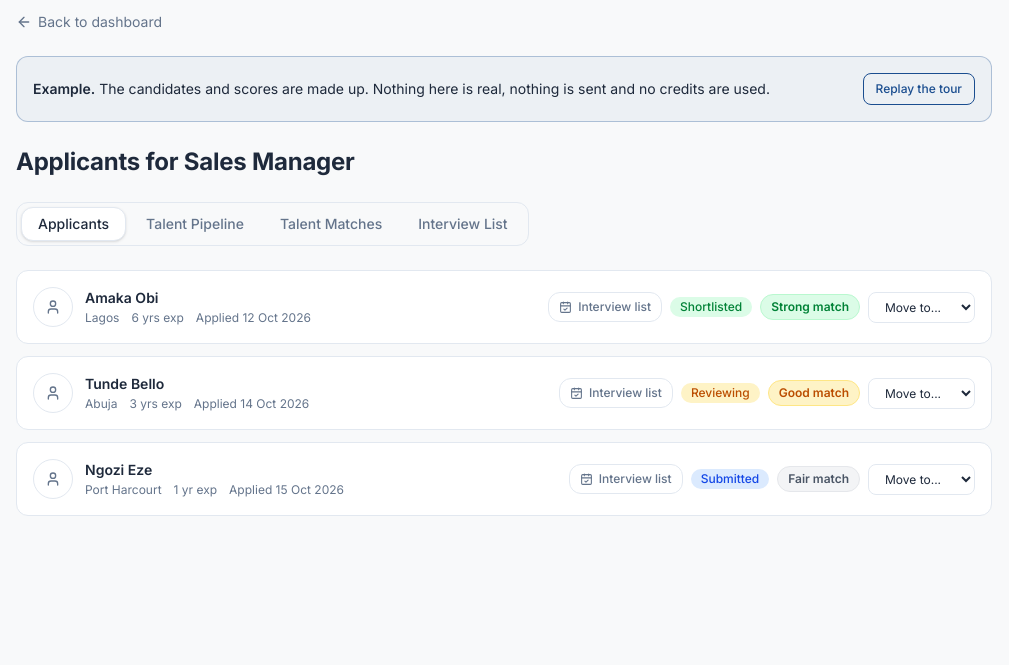
Test: ExampleJobTourPage › shows the reasons behind a score when it is pressed
Check: the text "Strengths" is not shown
Click the button with aria-label "Match score: " at (810, 307), box [760,294,860,320]
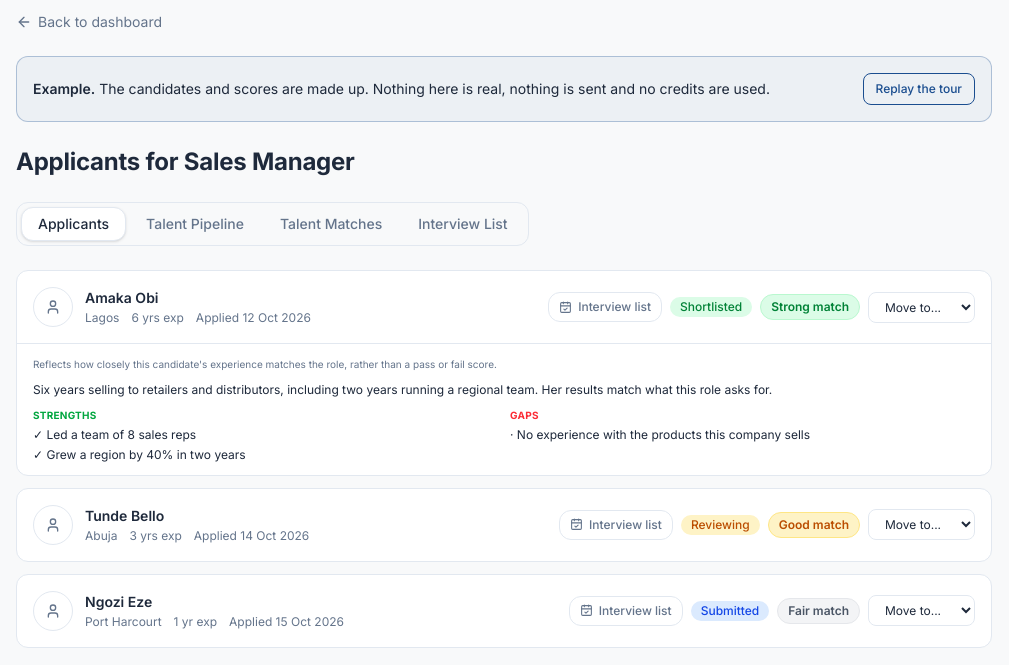
Check: the text "Strengths" is shown, box [33,409,97,421]
Check: the text "Gaps" is shown, box [510,409,539,421]
